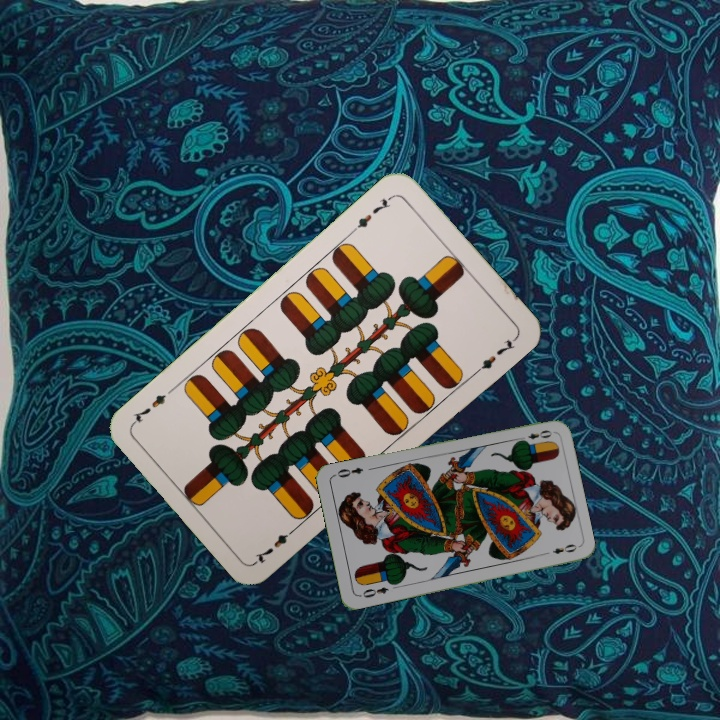E7: (348, 191, 396, 236), (251, 522, 300, 566)
EO: (515, 426, 554, 445), (355, 583, 391, 600)
